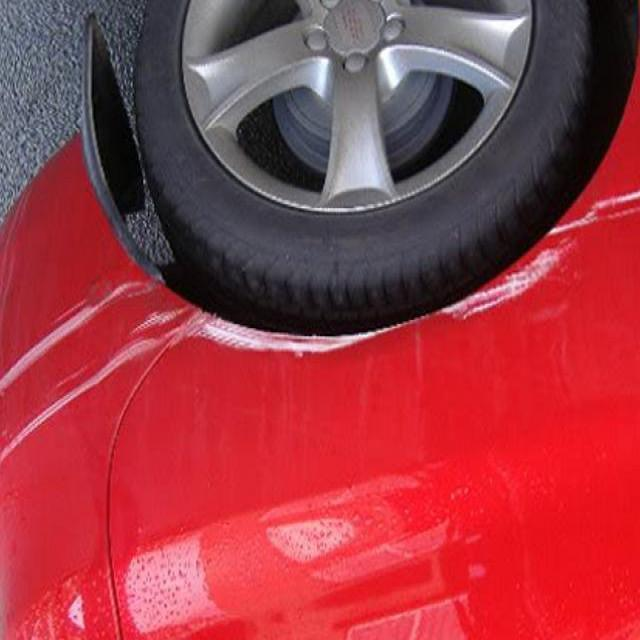scratch: (426, 184, 636, 375), (166, 306, 416, 361)
